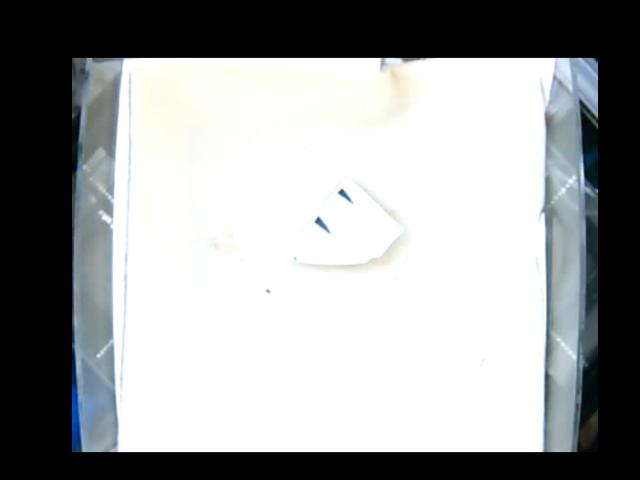China: (286, 176, 404, 264)
